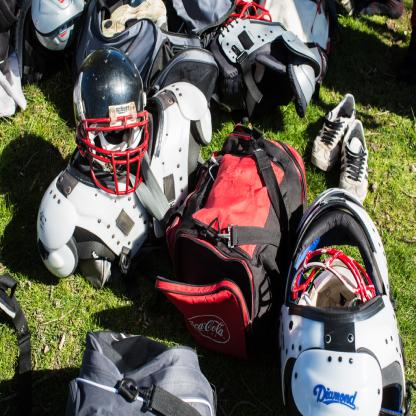Helmet: (280, 186, 408, 416), (72, 45, 150, 195), (200, 0, 271, 60)
